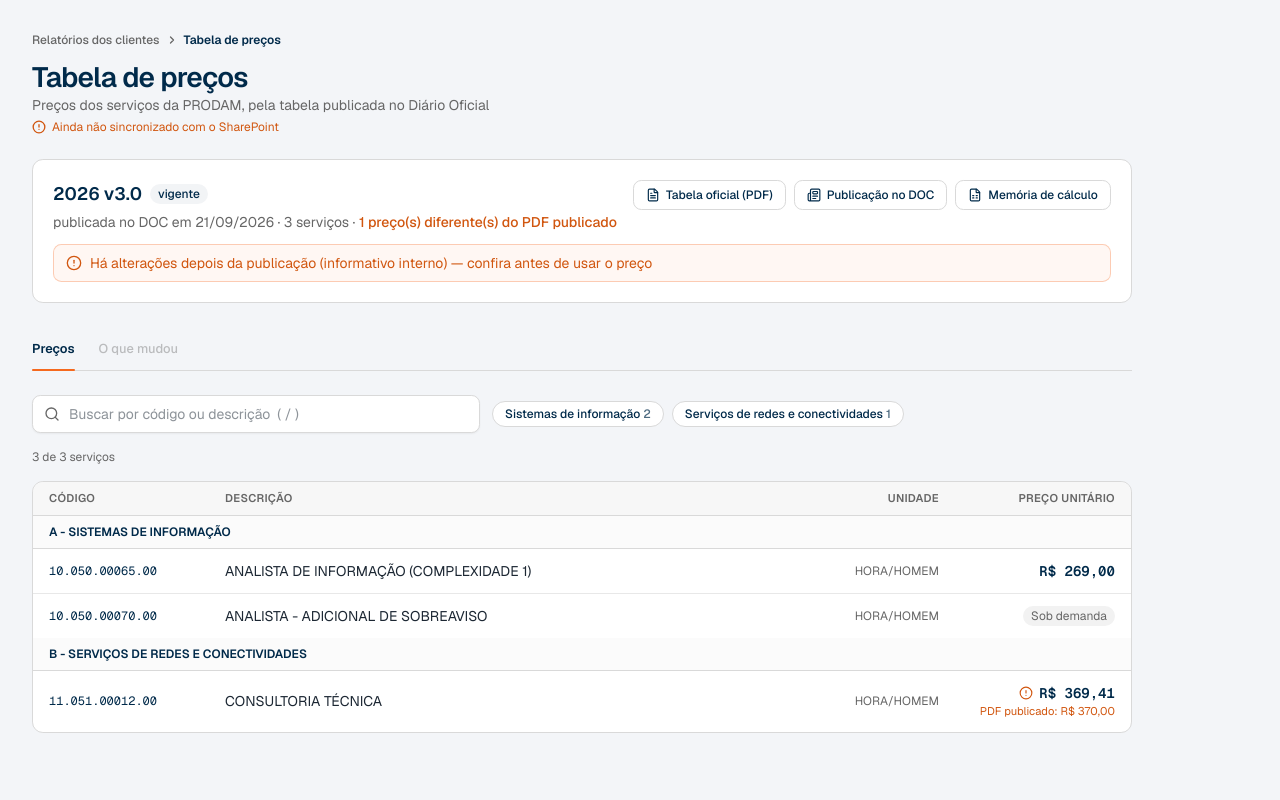
it: busca sem acento e filtro por grupo
Expected: the text "2026 v3.0" is shown, [53,182,142,205]
Type "tecnica" into the search field labelled "Buscar por código ou descrição ( / )" at coordinates (256, 414), box [32,395,480,433]
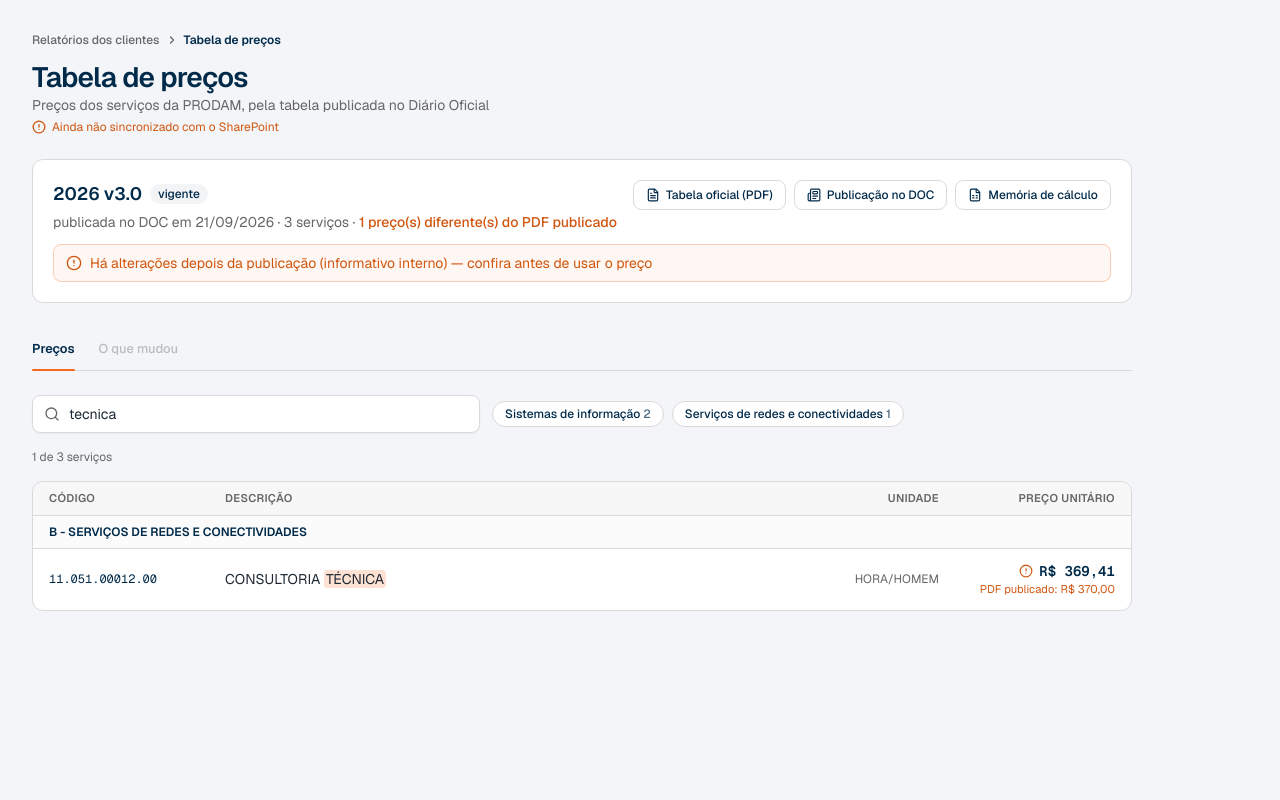
Expected: the text "TÉCNICA" is shown, [324,570,386,588]
Expected: the text "ANALISTA DE" is gone
Clear the search field named "Buscar" at coordinates (256, 414), box [32,395,480,433]
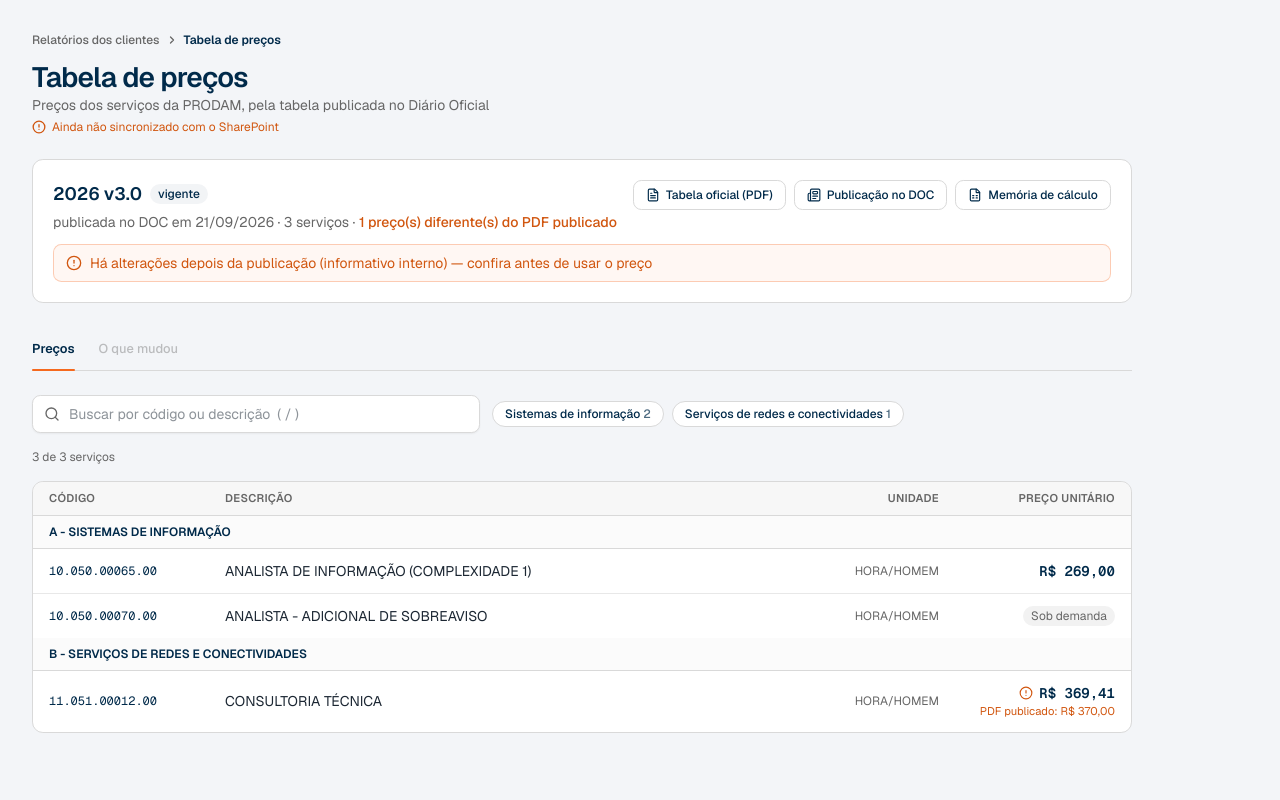
Click the button "Sistemas de informação 2" at coordinates (578, 414), box [492,401,664,427]
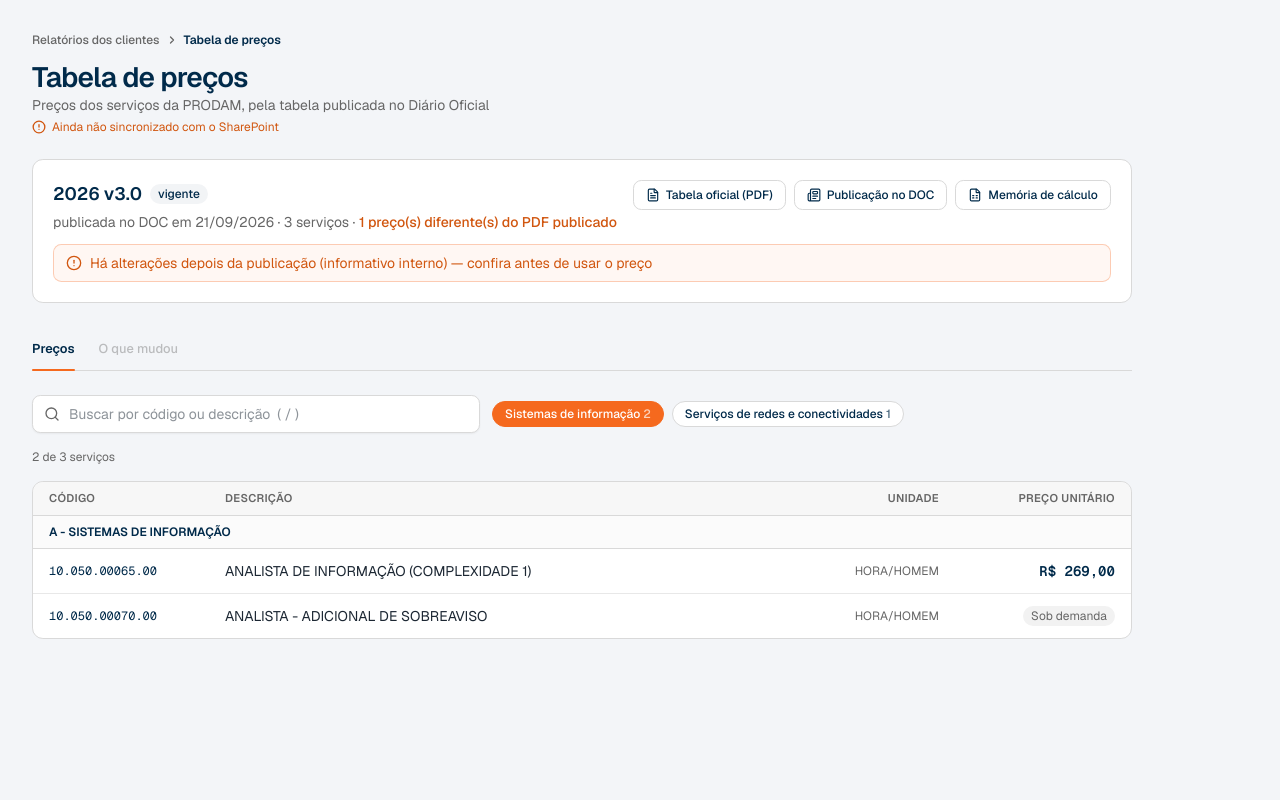
Expected: the text "CONSULTORIA TÉCNICA" is gone
